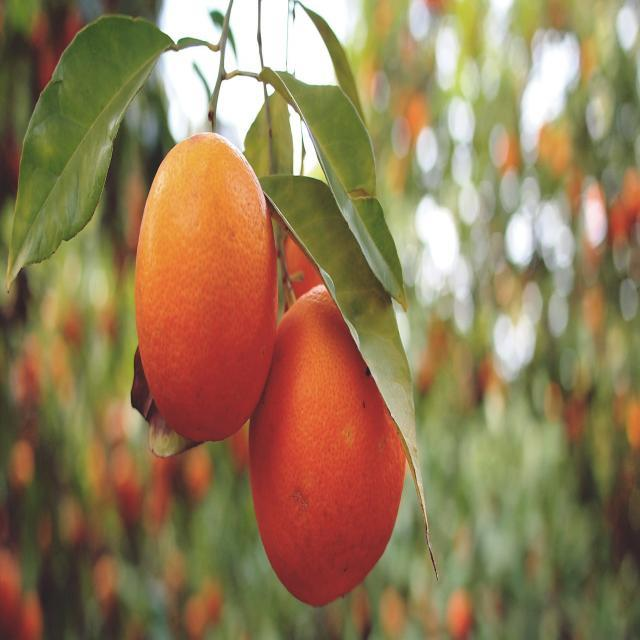Jeruk Sudah Matang: (244, 266, 422, 612), (128, 125, 282, 453)
